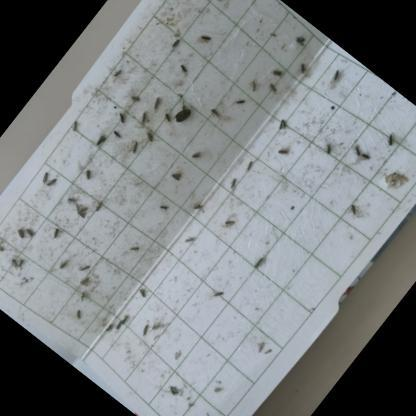prays_oleae: (370, 155, 416, 205), (204, 96, 235, 128), (319, 66, 349, 98), (191, 22, 220, 53), (336, 197, 364, 227), (57, 184, 84, 212), (139, 122, 166, 150), (133, 316, 159, 345), (122, 236, 148, 264), (52, 250, 78, 278), (145, 92, 171, 120), (63, 112, 88, 140), (121, 135, 146, 163), (207, 282, 232, 309), (267, 138, 292, 164), (240, 76, 265, 102), (246, 253, 270, 279), (226, 90, 250, 116), (316, 137, 340, 162), (109, 103, 133, 128), (286, 29, 310, 54), (87, 192, 110, 218), (184, 144, 208, 168), (2, 251, 26, 275), (170, 58, 194, 82), (238, 155, 261, 180), (380, 128, 403, 152), (131, 108, 154, 132), (105, 60, 127, 84), (72, 258, 93, 282), (160, 377, 182, 399), (290, 57, 312, 79), (164, 168, 186, 190), (74, 163, 96, 185), (87, 130, 109, 152), (126, 86, 148, 108), (34, 164, 55, 186), (356, 147, 376, 170), (180, 228, 200, 251), (9, 224, 30, 245), (187, 194, 208, 215), (220, 213, 240, 235), (267, 60, 288, 80), (262, 78, 283, 98), (107, 126, 128, 146), (151, 200, 171, 220), (67, 306, 87, 326), (42, 172, 61, 193), (274, 114, 292, 136), (157, 107, 176, 126), (135, 282, 154, 301), (22, 222, 42, 240), (166, 32, 184, 52), (46, 226, 63, 244), (108, 319, 124, 338), (72, 287, 89, 304), (118, 310, 134, 328), (226, 172, 242, 190), (346, 146, 362, 162), (211, 0, 233, 9), (0, 238, 9, 258)
